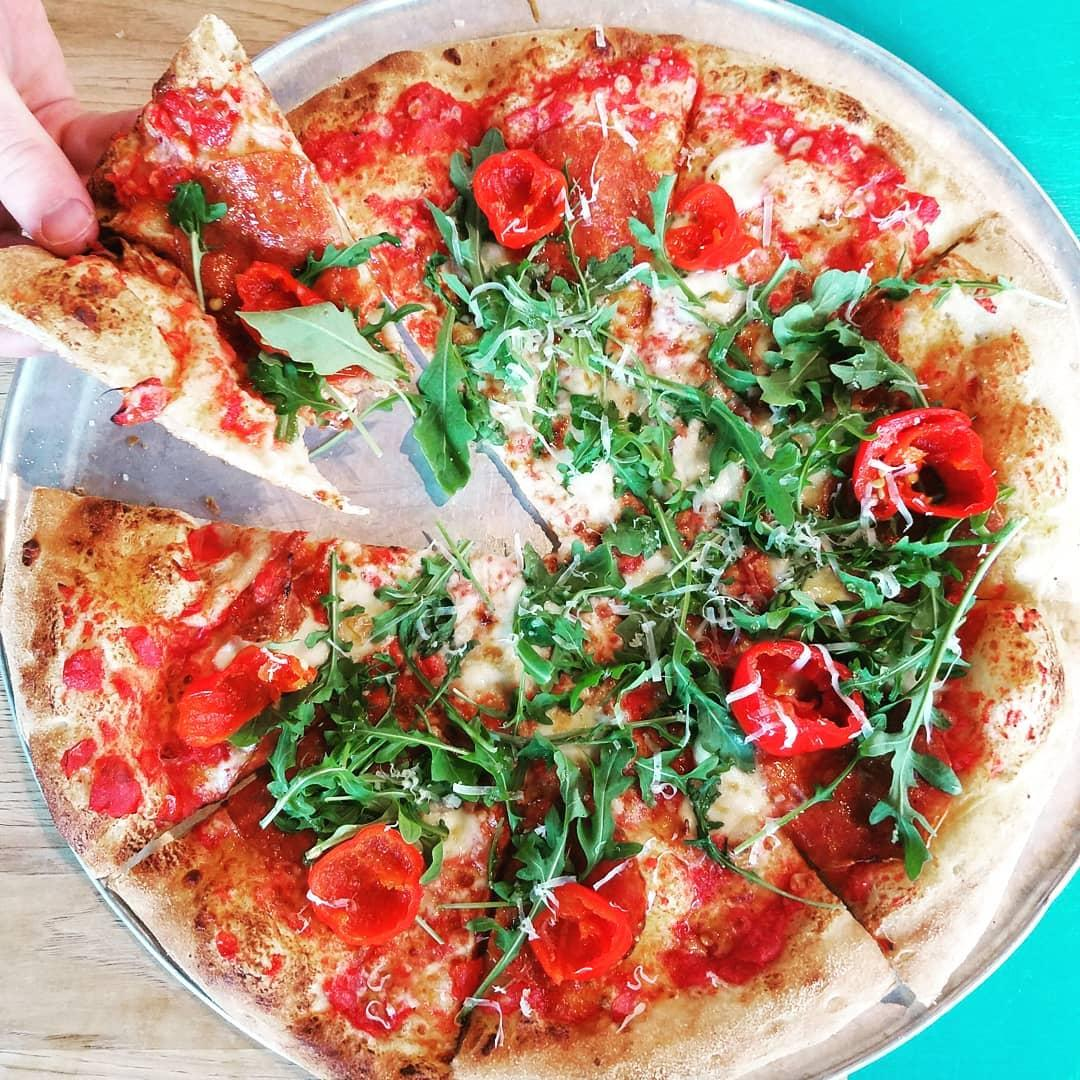Arugula: (526, 562, 713, 760), (875, 542, 969, 874), (600, 424, 814, 556), (272, 679, 484, 809), (436, 269, 608, 415), (749, 298, 903, 396)
Peppers: (300, 821, 437, 953), (847, 405, 1002, 520), (169, 645, 318, 754), (731, 638, 872, 753), (524, 881, 645, 990), (469, 153, 573, 252), (661, 180, 762, 274), (232, 254, 342, 320)
Pizza: (0, 0, 1080, 1080)
